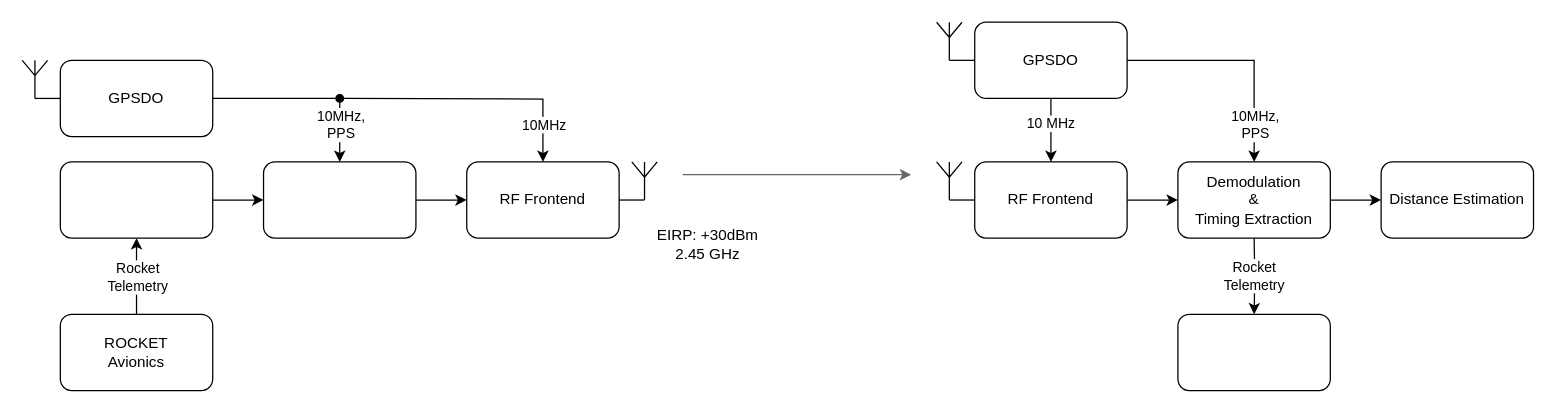
The diagram is 1556 pixels wide and 413 high, and some of its shapes have lost their labels. Each missing label, with the centre of its shape:
"Groundstation" belongs at (x=1253, y=352).
"Packing & Scheduling" belongs at (x=136, y=199).
"Timing Signals & Modulation" belongs at (x=339, y=199).
